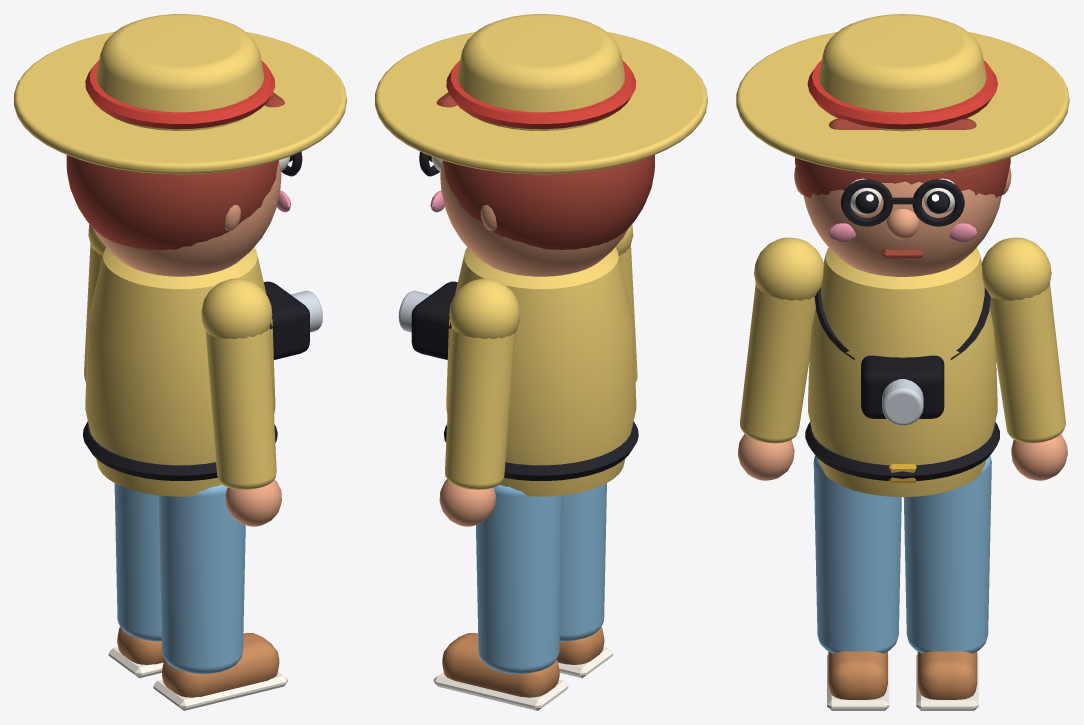
File: ped_tourist.glb
The picture shows the model from 3 angles, left to right: view 1: azimuth 30°, elevation 25°; view 2: azimuth 150°, elevation 25°; view 3: azimuth 270°, elevation 25°; orthographic projection.
Visible parts, largest first — view 1: ped_tourist; view 2: ped_tourist; view 3: ped_tourist.
Boxes of the visible parts, <box> form: ped_tourist: <box>14,14,346,710</box>; ped_tourist: <box>375,14,707,710</box>; ped_tourist: <box>736,14,1069,710</box>.
Bounding box in the file's own units: 0.5597 × 1.18 × 0.5594.
1 material, 1 textured.
